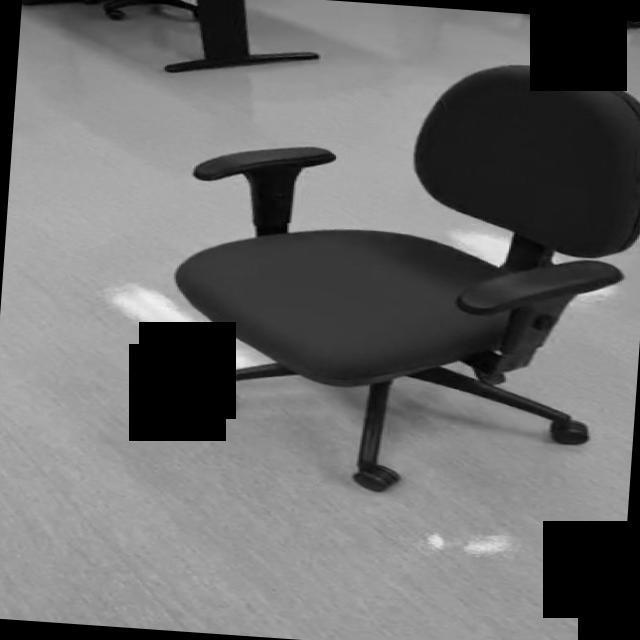chair: (160, 40, 640, 508)
